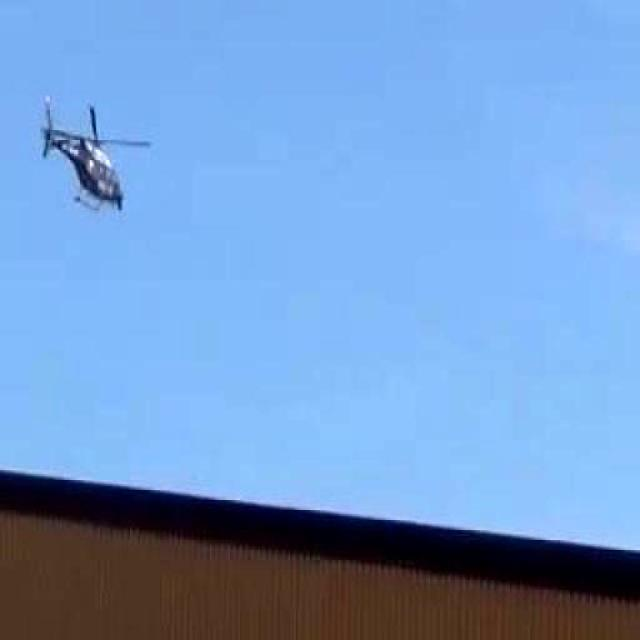drone: (12, 69, 169, 259)
